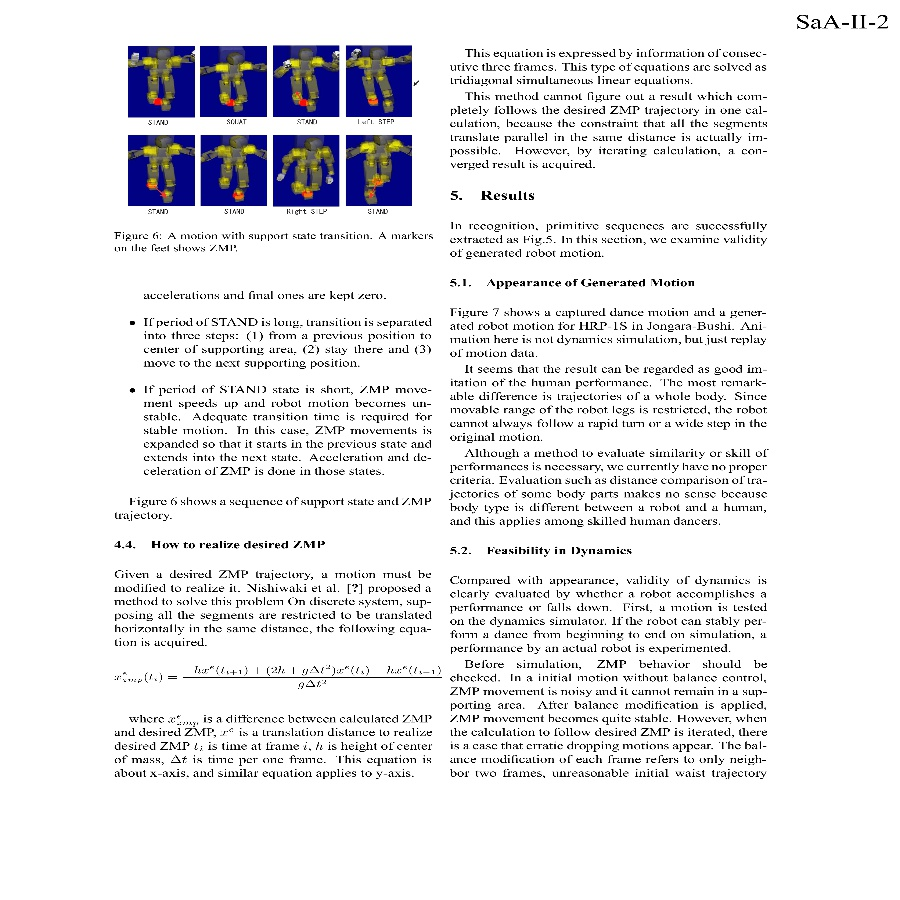eq: (113, 661, 445, 691)
